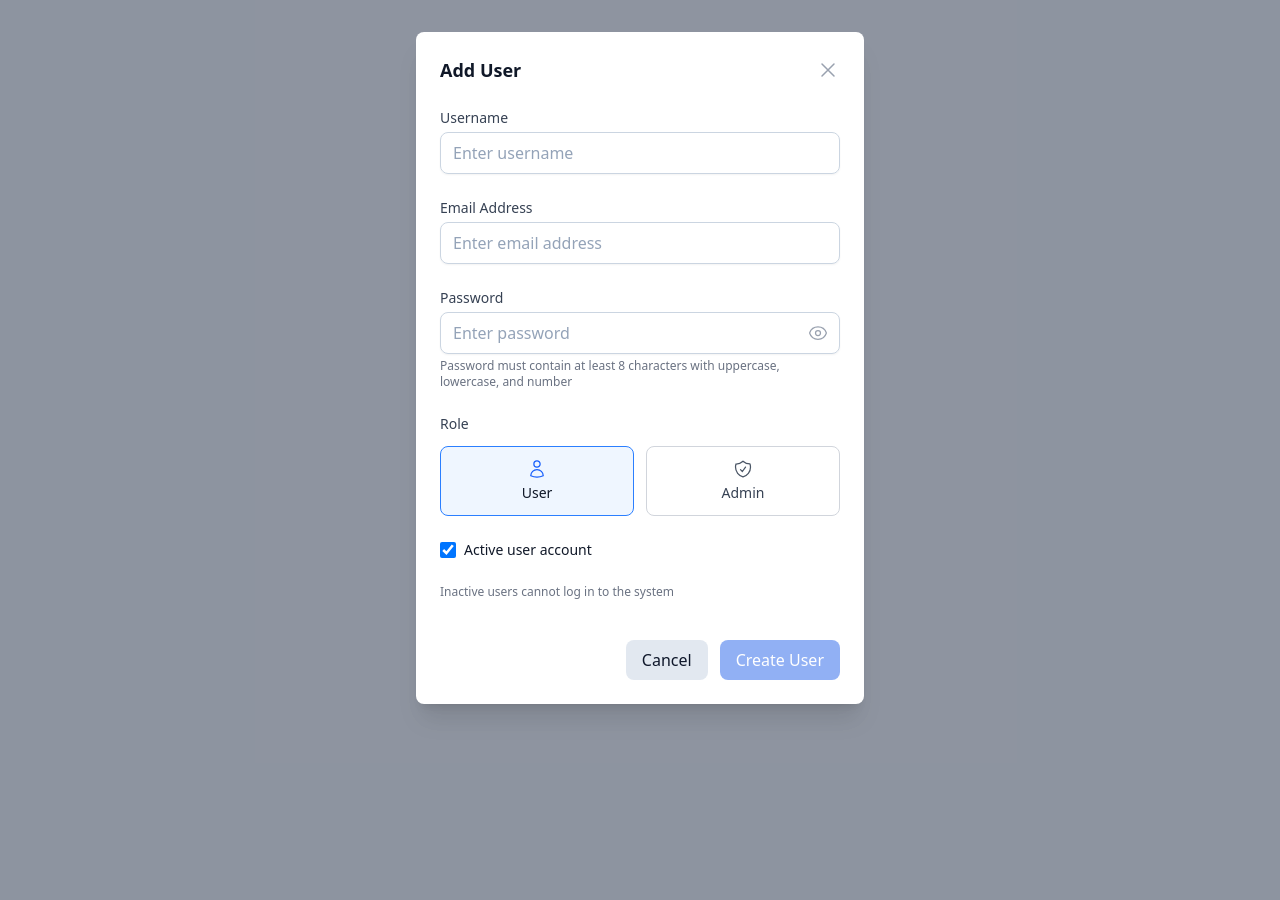
UserForm › Role Selection › should allow selecting Admin role
The width and height of the screenshot is (1280, 900).
# Click Admin role
Click the radio button showing "Admin": (743, 481) [646,446,840,516]
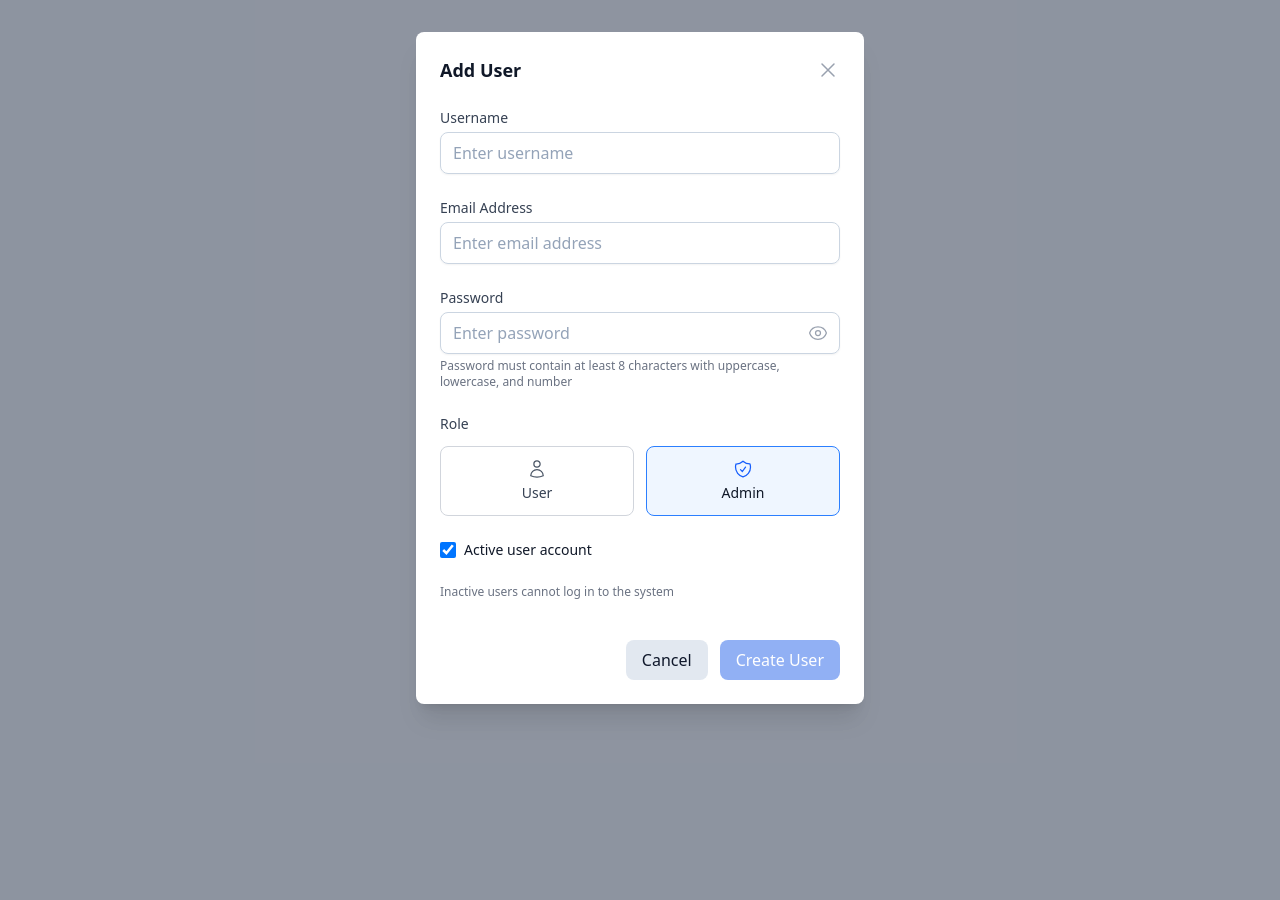
expect the radio button showing "Admin" is checked: met, box [646,446,840,516]
expect the radio button showing "User" is not checked: met, box [440,446,634,516]
